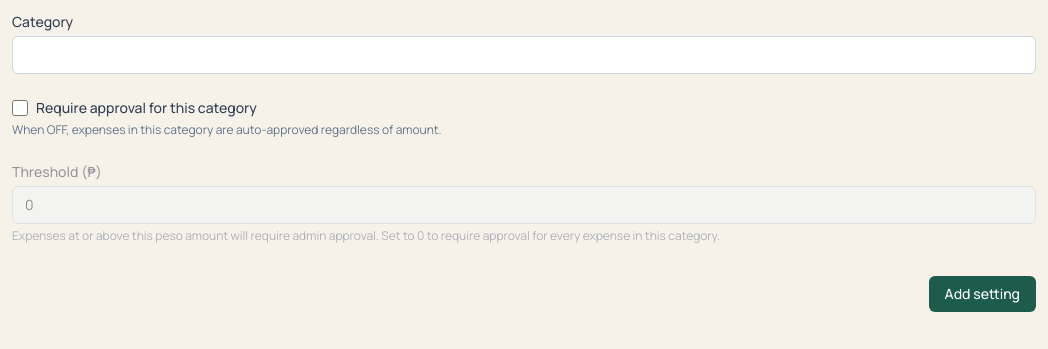
ExpenseApprovalSettingsForm — create mode › requires a non-empty category before submit
Click the button "Add setting".
click(982, 294)  # box [929, 276, 1036, 312]
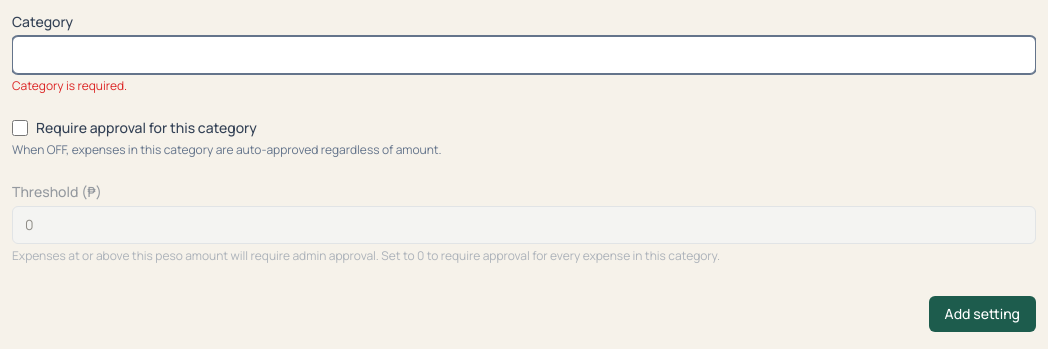
Now the text "Category is required." is shown, box [12, 77, 127, 94]
